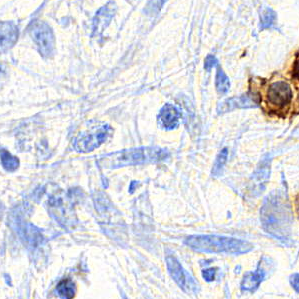Lymphocyte: (253, 71, 297, 116)
